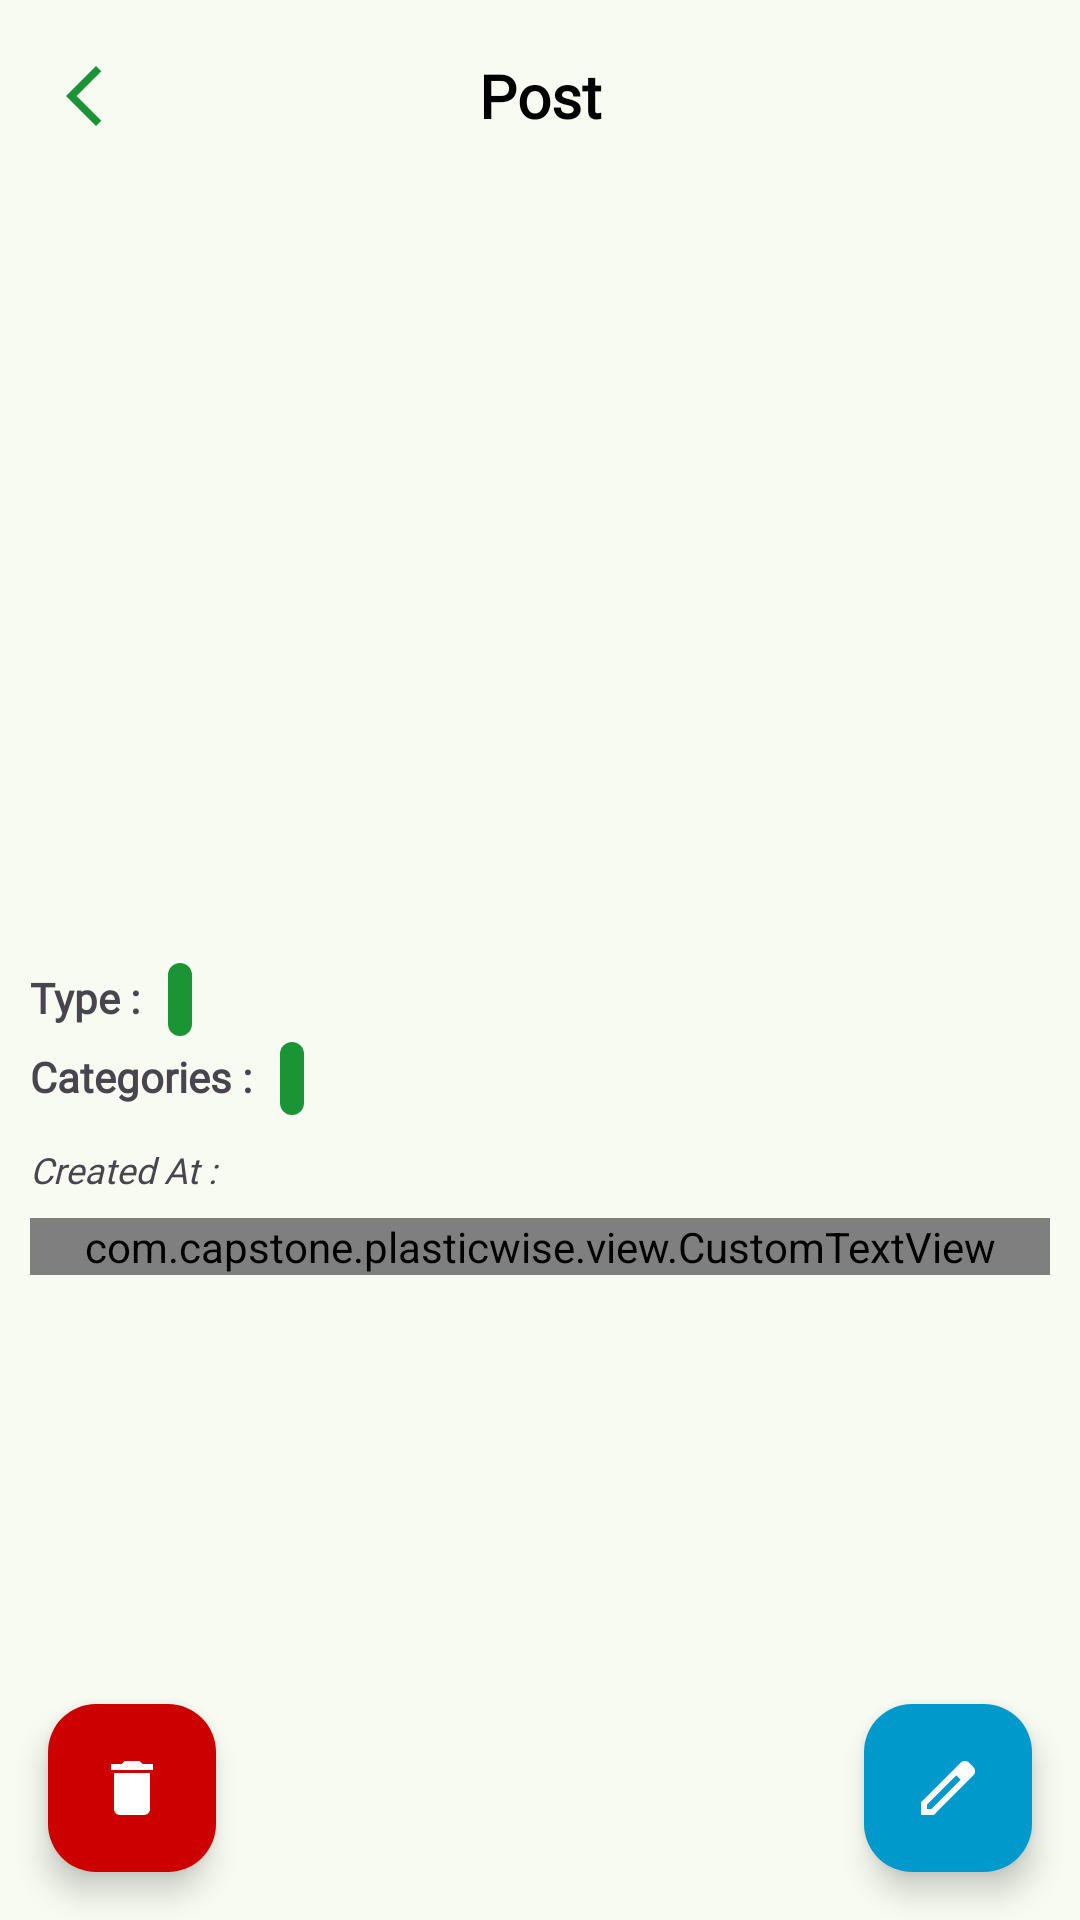

Screen size 1080px x 1920px. Icon name, then its box in pixels as (x1, y1, x2, y2):
Back: (66, 66, 101, 126)
delete: (48, 1704, 216, 1872)
edit: (864, 1704, 1032, 1872)
